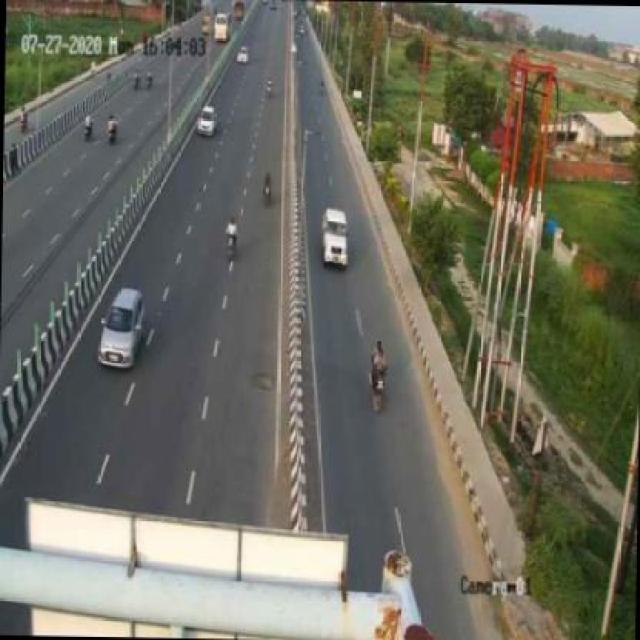car: (88, 278, 149, 374), (315, 198, 351, 277), (192, 100, 217, 143)
